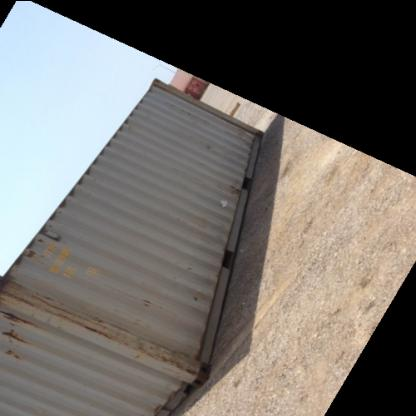Damage: (128, 326, 212, 377), (1, 277, 36, 363), (65, 309, 121, 339), (212, 170, 245, 210), (21, 232, 50, 262), (230, 124, 256, 146), (199, 134, 217, 158), (135, 292, 153, 316), (181, 288, 202, 306)
